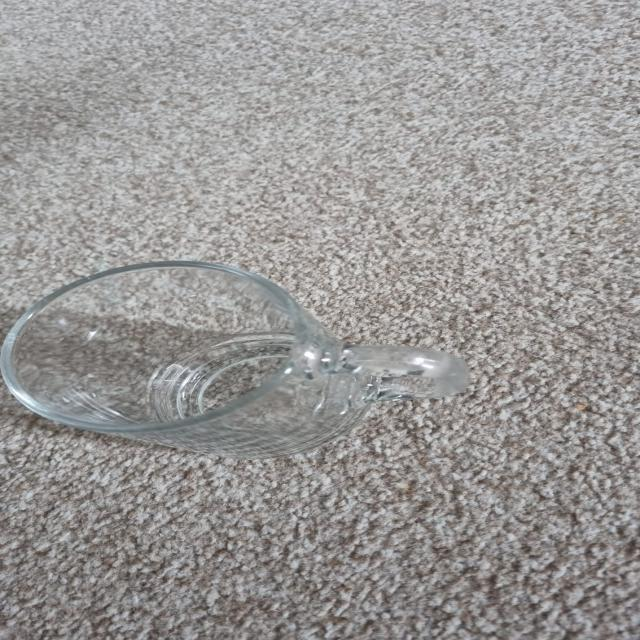Cup: (0, 261, 469, 457)
